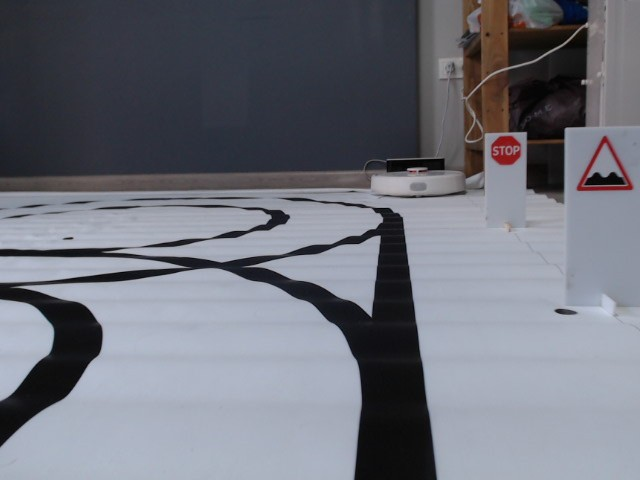Nerov: (575, 134, 633, 193)
Stop: (490, 135, 522, 166)
